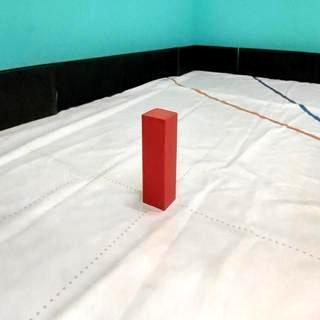redbox: (140, 108, 178, 212)
